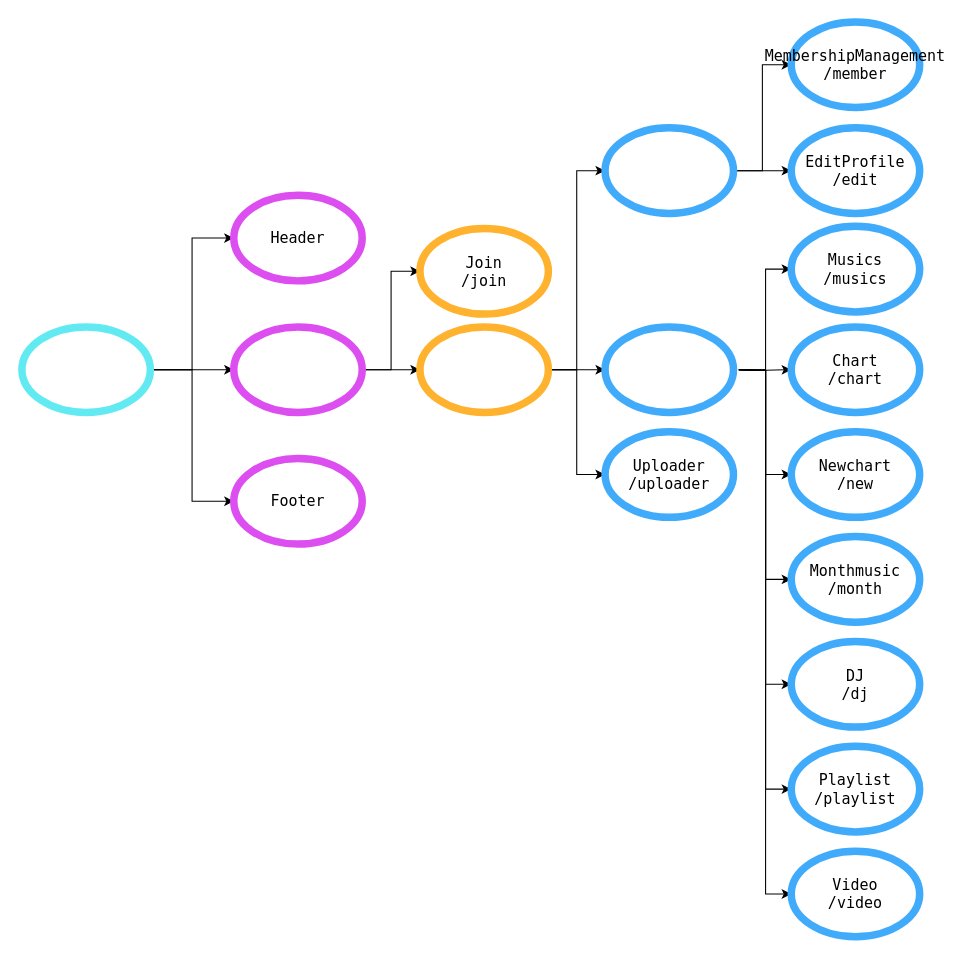
This 964x959 diagram has some shape labels left out. The centre of each missing label's shape, as x and y in pixels:
"app.js" belongs at pixel 86 369.
"Login /login" belongs at pixel 484 369.
"Main: Main /" belongs at pixel 297 369.
"Mypage /mypage" belongs at pixel 669 170.
"Payment /pament/:id" belongs at pixel 669 369.
